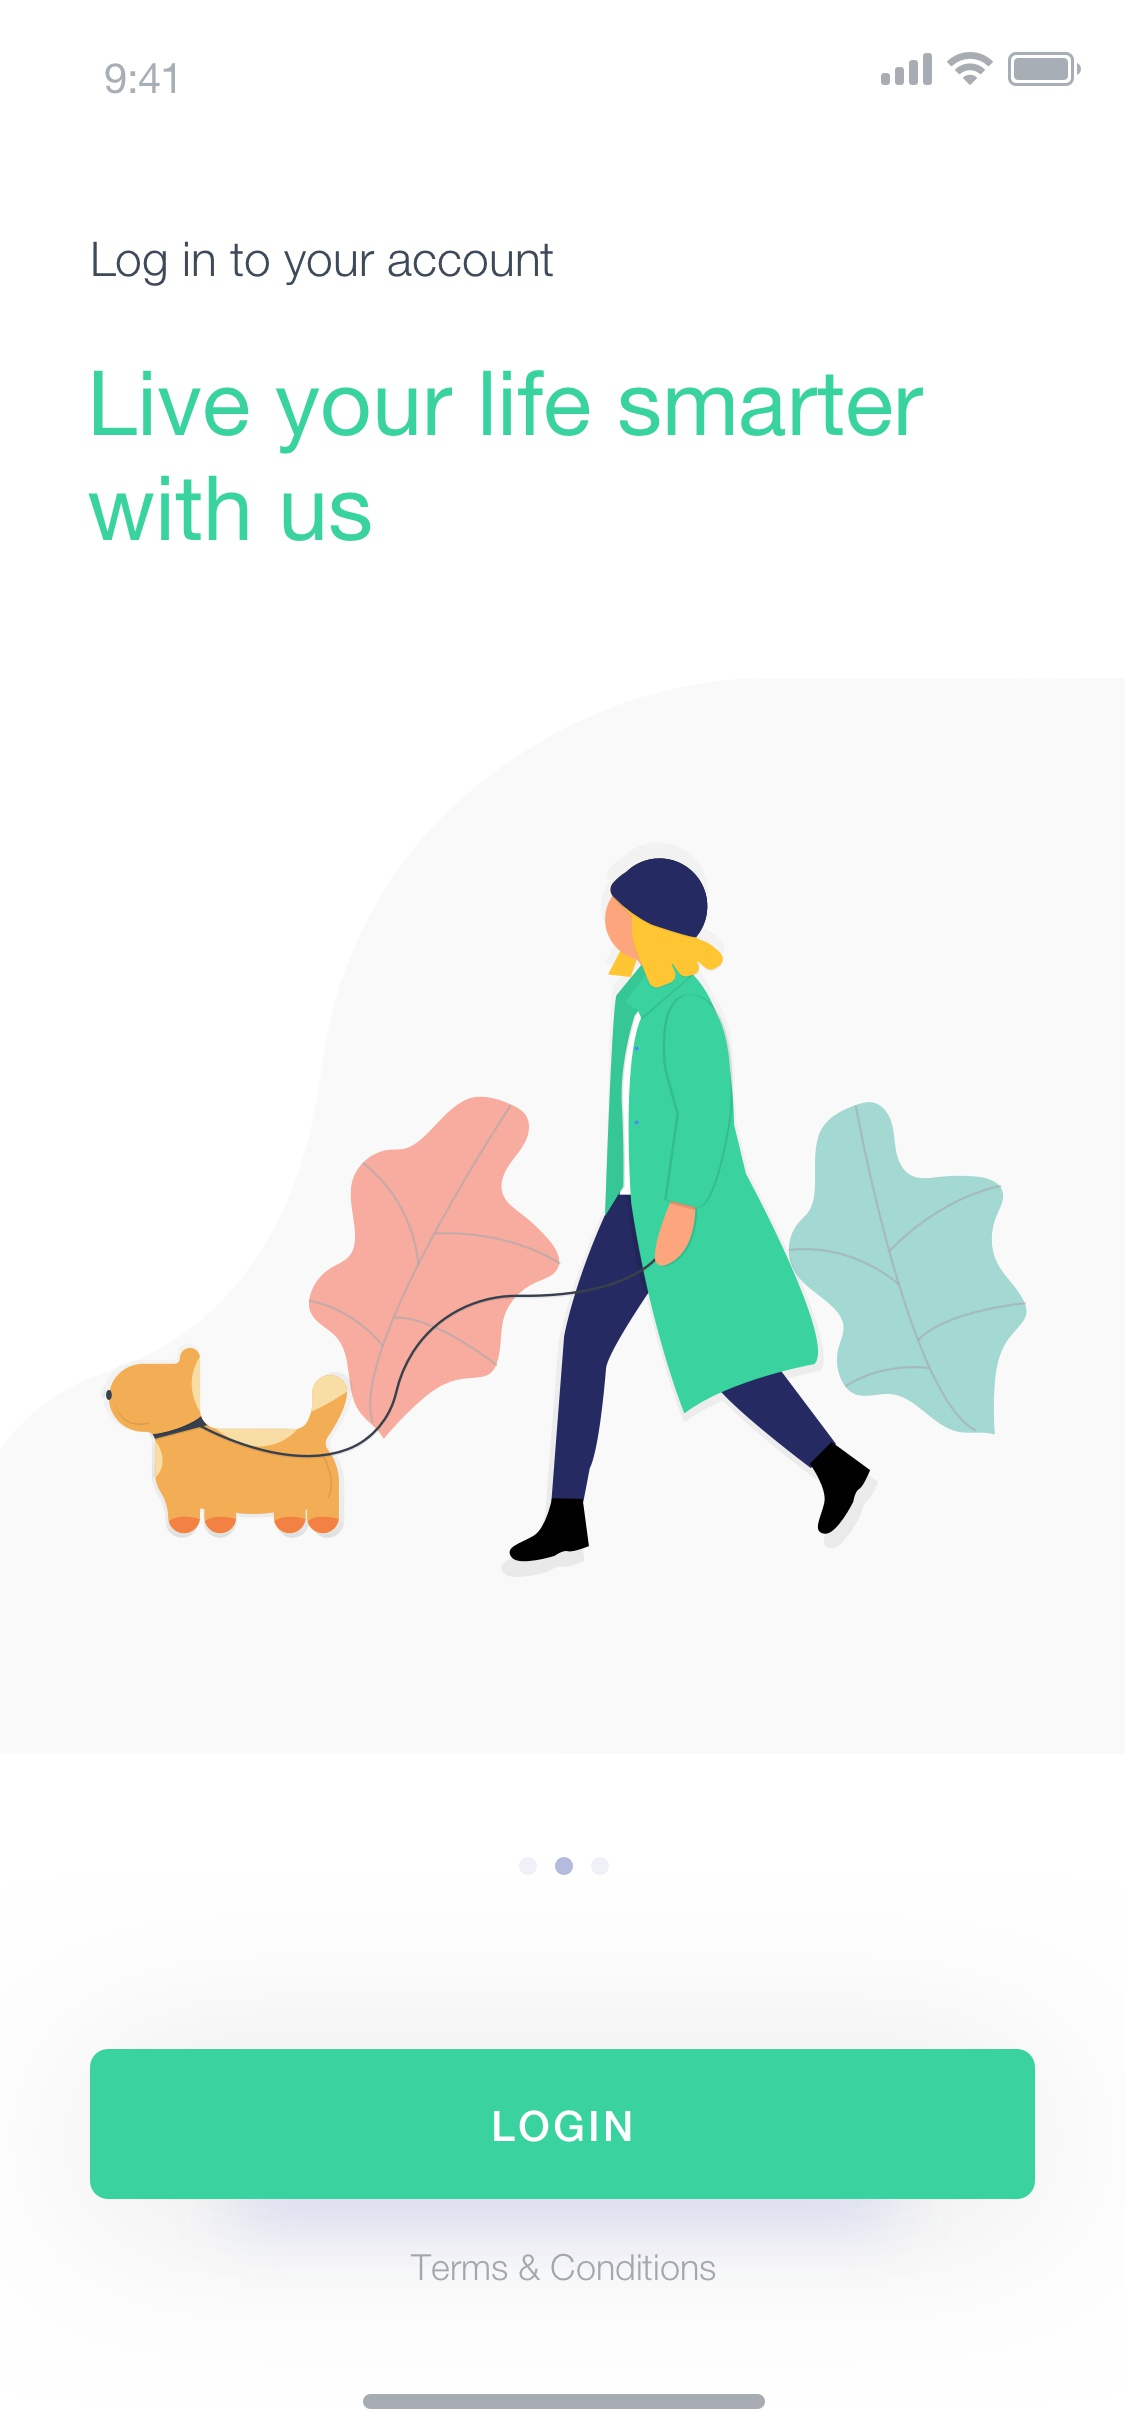Image: (103, 858, 1029, 1578)
PageIndicator: (517, 1855, 611, 1877)
Text: (89, 370, 925, 542), (93, 241, 555, 287), (410, 2253, 716, 2282)
TextButton: (90, 2049, 1036, 2198)
UpperTaskBar: (106, 51, 1081, 96)
